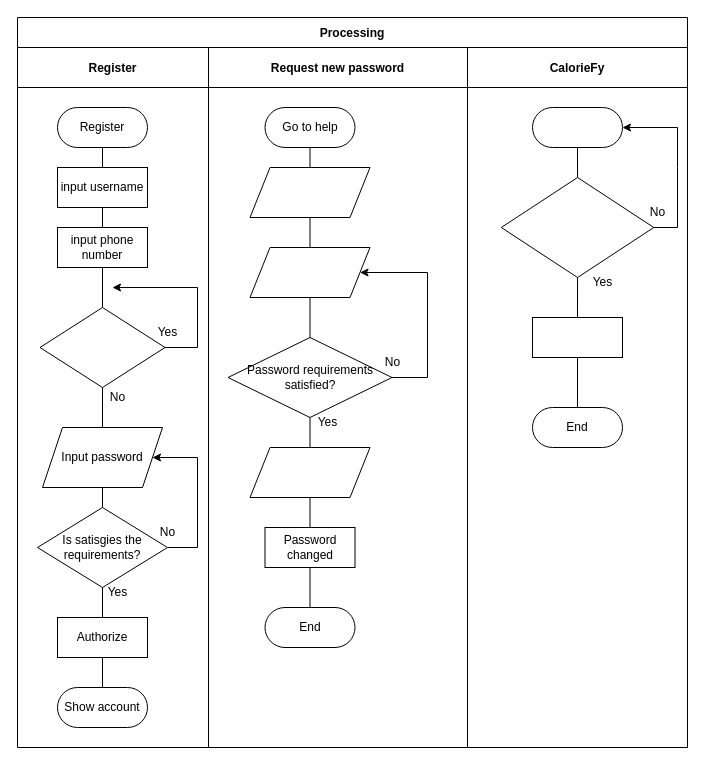
The diagram is 705 pixels wide and 765 high, and some of its shapes have lost their labels. The shapes that lost their labels are listed below. From the top down, each one's centre as x and y in pixels, then its label:
pixel 577 127: Select appropreate fields
pixel 309 192: Choose "set new password"
pixel 577 227: Are all required fields selected?
pixel 309 272: Enter new password
pixel 102 347: is phone number used?
pixel 577 337: Calorie calculation
pixel 309 472: Pass captcha
